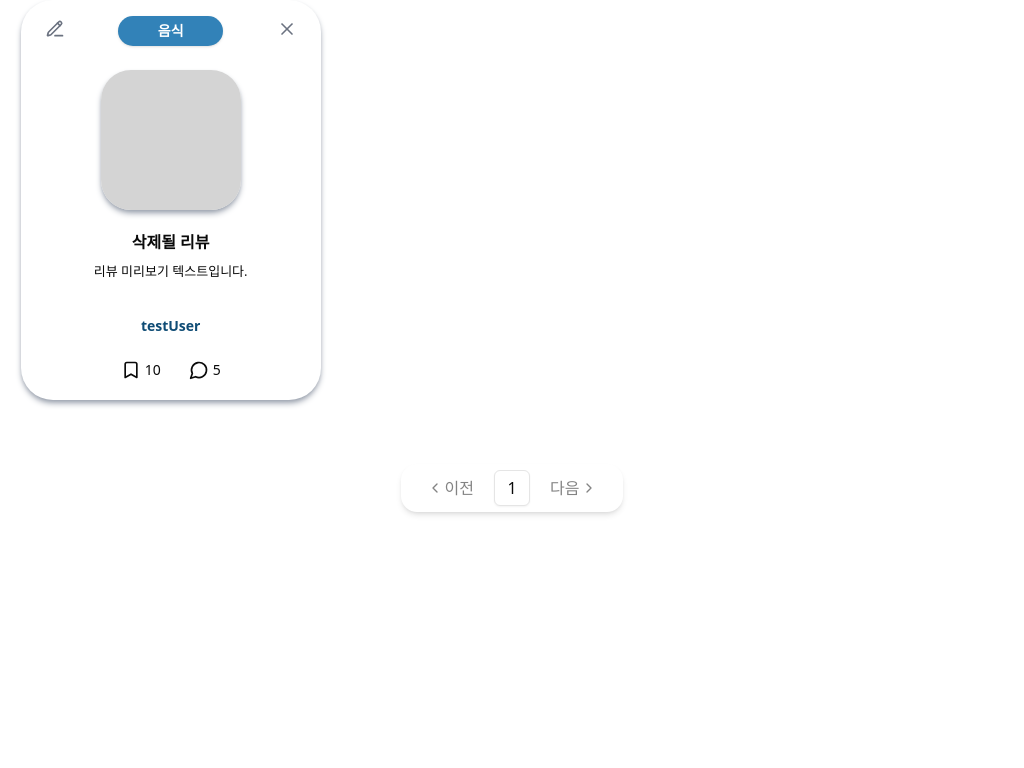
it: src/features/reviews/my/ui/MyReviews.tsx › 기능 테스트 › 작성한 후기를 삭제할 수 있다.
Click the button named "삭제될 리뷰 리뷰 삭제".
click(287, 29)  # box [277, 19, 297, 39]
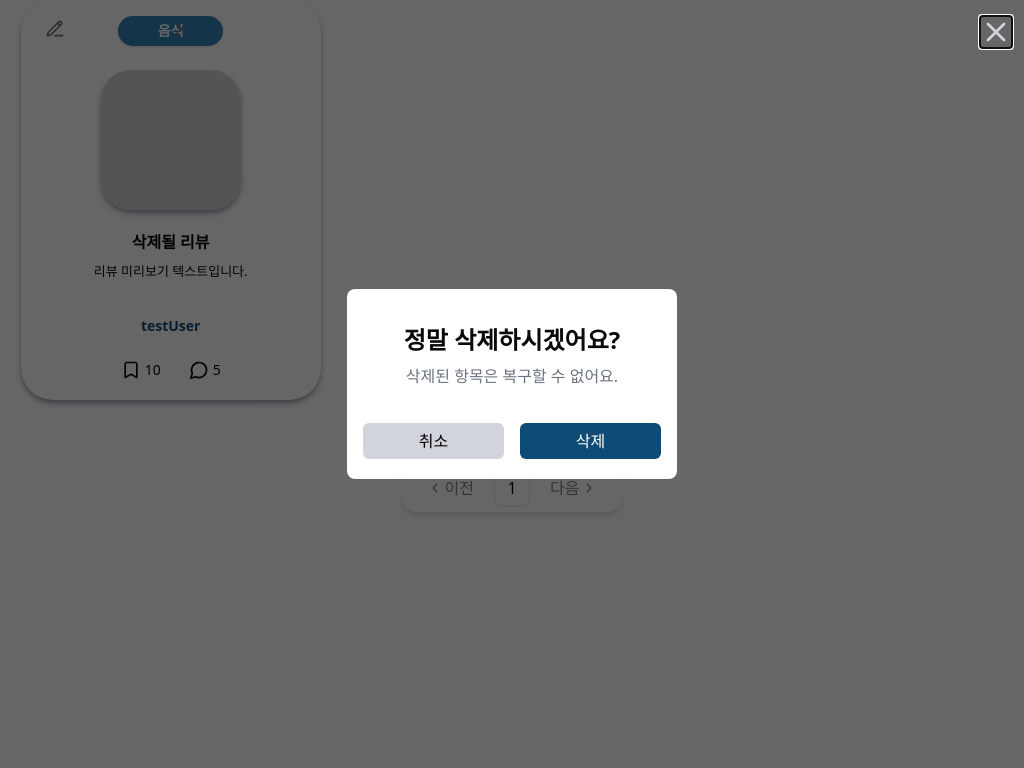
Click the button "삭제".
click(590, 441)  # box [520, 423, 661, 459]
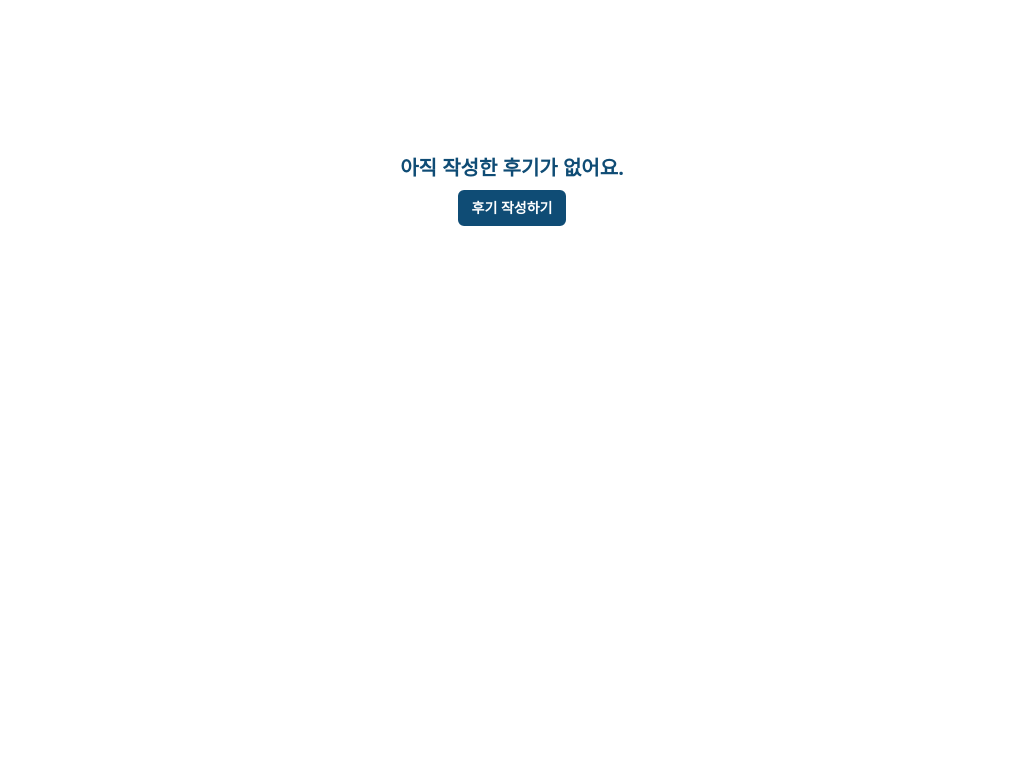
Now the text "아직 작성한 후기가 없어요." is shown, box [400, 154, 624, 182]
